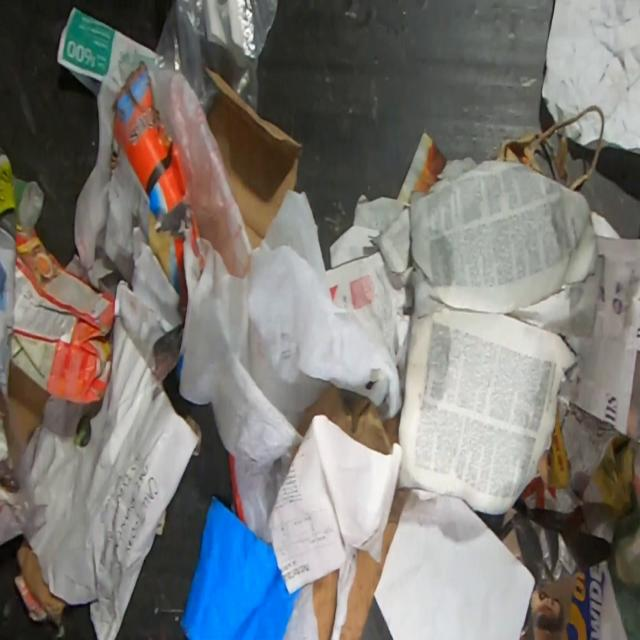cardboard: (9, 221, 115, 406), (206, 68, 303, 249), (296, 382, 400, 455), (339, 521, 397, 640), (0, 360, 50, 476), (18, 545, 66, 625), (312, 568, 338, 640)
soft_plastic: (145, 61, 252, 279), (153, 0, 278, 119)
